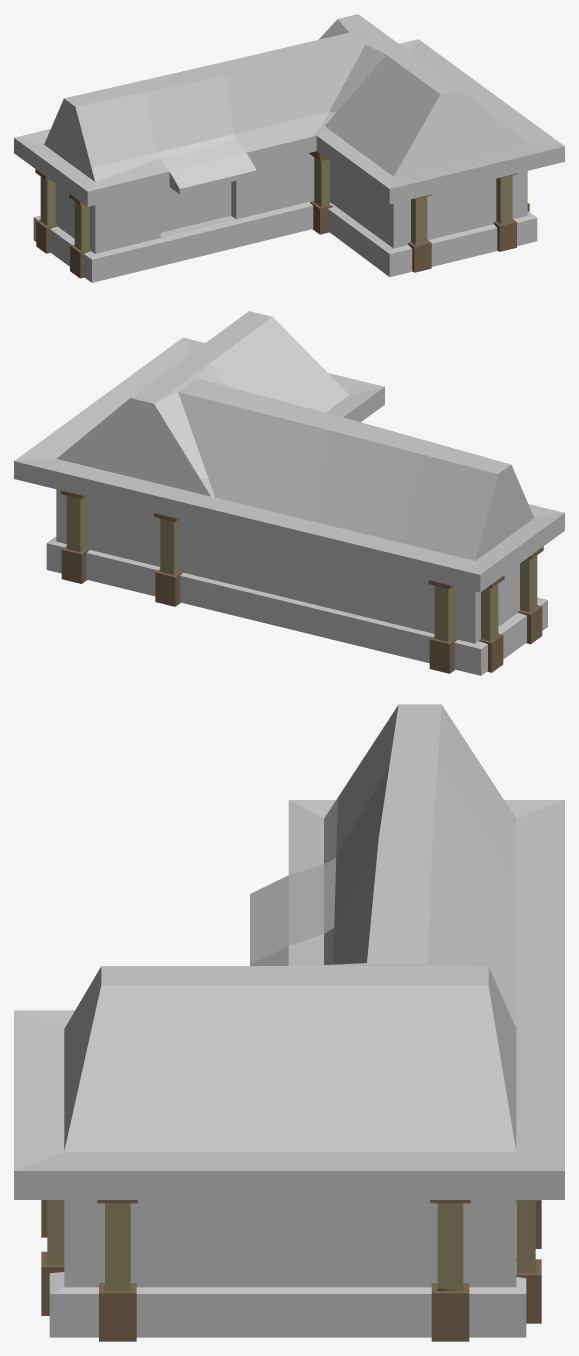
Rendered from casa1.fbx.
3 views of the same model, one above another, from view 1: azimuth 30°, elevation 25°; view 2: azimuth 150°, elevation 25°; view 3: azimuth 270°, elevation 25° (orthographic). The views are drawn at different scales.
Visible parts, largest first — view 1: Cube, Cube.009; view 2: Cube, Cube.009; view 3: Cube, Cube.009.
Part boxes in pixels (x1=…): Cube: x1=14, y1=14, x2=564, y2=282; Cube.009: x1=35, y1=151, x2=529, y2=278; Cube: x1=14, y1=311, x2=564, y2=675; Cube.009: x1=60, y1=490, x2=543, y2=673; Cube: x1=14, y1=704, x2=564, y2=1337; Cube.009: x1=41, y1=1200, x2=541, y2=1341.
Size of the model in its own units: 1035 by 386 by 649.
